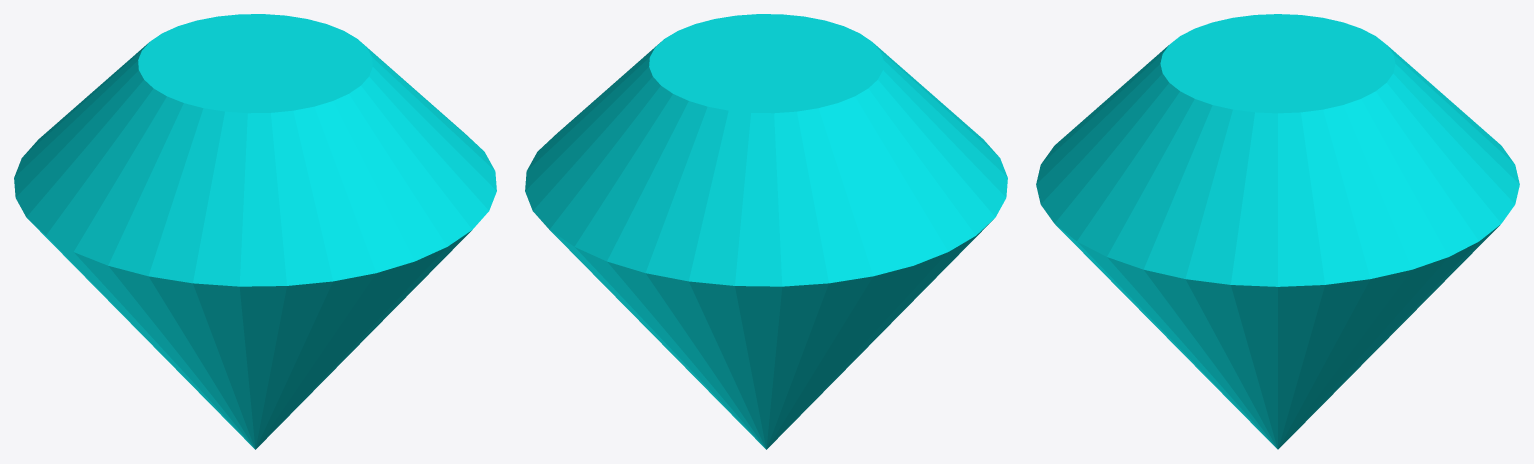
Rendered from Gem.fbx.
3 views of the same model, side by side, from view 1: azimuth 30°, elevation 25°; view 2: azimuth 150°, elevation 25°; view 3: azimuth 270°, elevation 25° (orthographic).
Parts seen in each view (by area): view 1: Cone; view 2: Cone; view 3: Cone.
Boxes of the visible parts, box(x1,y1,x2,y2) form: Cone: box(14, 14, 496, 449); Cone: box(525, 14, 1007, 449); Cone: box(1036, 14, 1519, 449).
Size of the model in its own units: 341 by 301 by 341.
